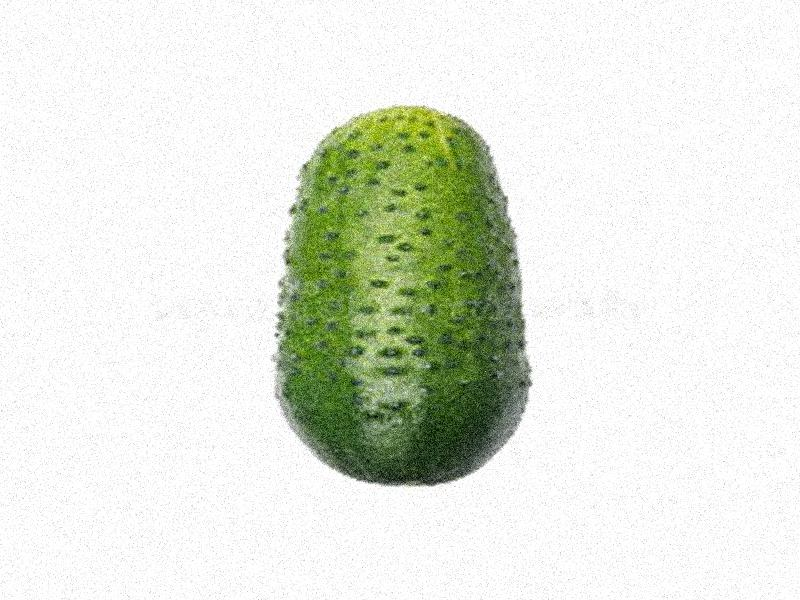Cucumber: (270, 103, 531, 486)
